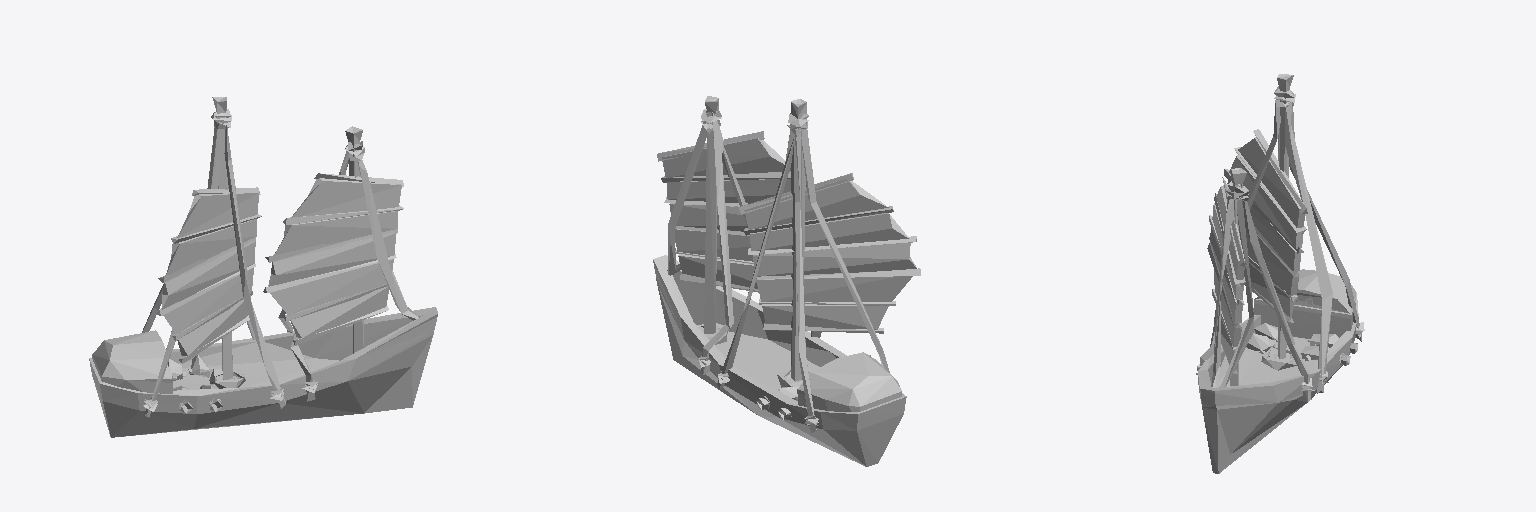
The model's file is navio2.obj.
3 views of the same model, side by side, from view 1: azimuth 30°, elevation 25°; view 2: azimuth 150°, elevation 25°; view 3: azimuth 270°, elevation 25° (orthographic).
Visible parts, largest first — view 1: 19889_Junk__ship_.001; view 2: 19889_Junk__ship_.001; view 3: 19889_Junk__ship_.001.
Part boxes in pixels (bbox=[...]): 19889_Junk__ship_.001: bbox=[89, 97, 437, 437]; 19889_Junk__ship_.001: bbox=[653, 96, 920, 466]; 19889_Junk__ship_.001: bbox=[1196, 74, 1364, 473].
Bounding box in the file's own units: 8.09 × 8.58 × 4.03.